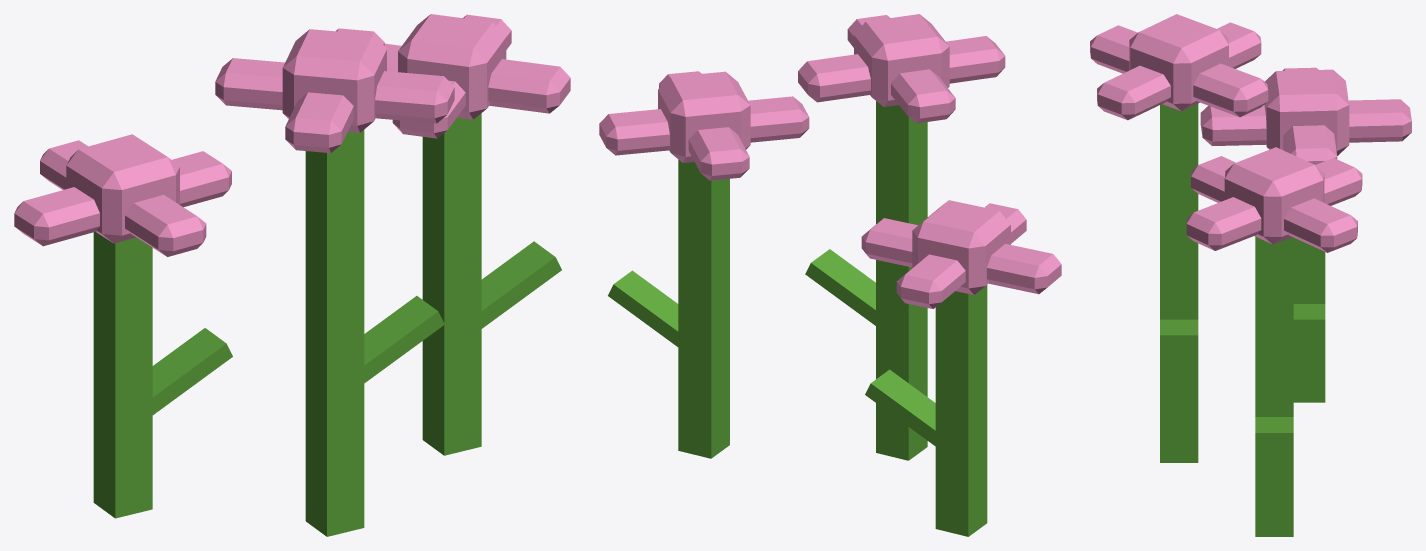
File: Flowers.fbx
3 renders of one model, left to right at view 1: azimuth 30°, elevation 25°; view 2: azimuth 150°, elevation 25°; view 3: azimuth 270°, elevation 25°, orthographic. The views are drawn at different scales.
Visible parts, largest first — view 1: Stem, Bloom; view 2: Stem, Bloom; view 3: Bloom, Stem.
Boxes of the visible parts, x1,y1,x2,y2 form: Stem: (93, 113, 561, 536); Bloom: (14, 14, 570, 256); Stem: (608, 101, 987, 536); Bloom: (599, 14, 1061, 308); Bloom: (1090, 14, 1411, 252); Stem: (1160, 104, 1325, 536).
Size of the model in its own units: 1.65 by 1.47 by 1.01.
